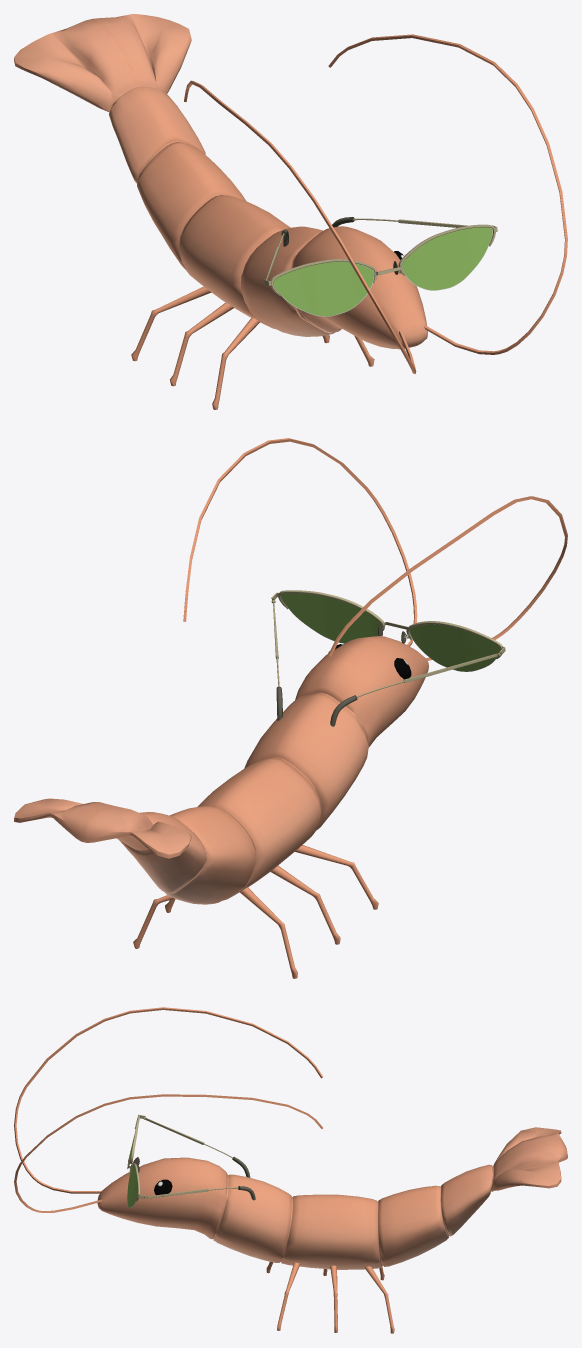
File: gamba_gafas.glb
3 renders of one model, top to bottom at view 1: azimuth 30°, elevation 25°; view 2: azimuth 150°, elevation 25°; view 3: azimuth 270°, elevation 25°, orthographic. The views are drawn at different scales.
Parts seen in each view (by area): view 1: Shrimp, Front, L_Temple; view 2: Shrimp, Front, R_Temple; view 3: Shrimp, Front.
Boxes of the visible parts, x1=… form: Shrimp: x1=14, y1=14, x2=567, y2=409; Front: x1=263, y1=224, x2=497, y2=316; L_Temple: x1=332, y1=217, x2=468, y2=227; Shrimp: x1=14, y1=438, x2=567, y2=978; Front: x1=271, y1=590, x2=505, y2=671; R_Temple: x1=330, y1=653, x2=500, y2=726; Shrimp: x1=14, y1=1007, x2=567, y2=1333; Front: x1=127, y1=1114, x2=145, y2=1207.
Size of the model in its own units: 73.8 by 102 by 199.
Materials: 2 (2 with a texture image).
